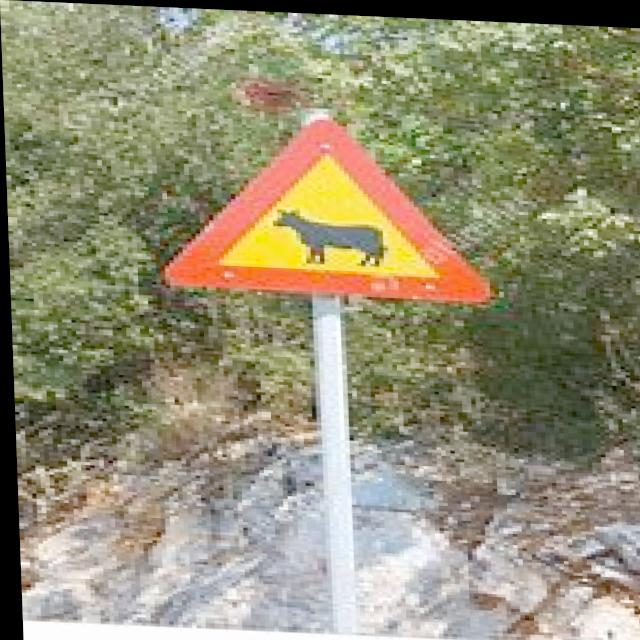CATTLE: (155, 108, 492, 313)
